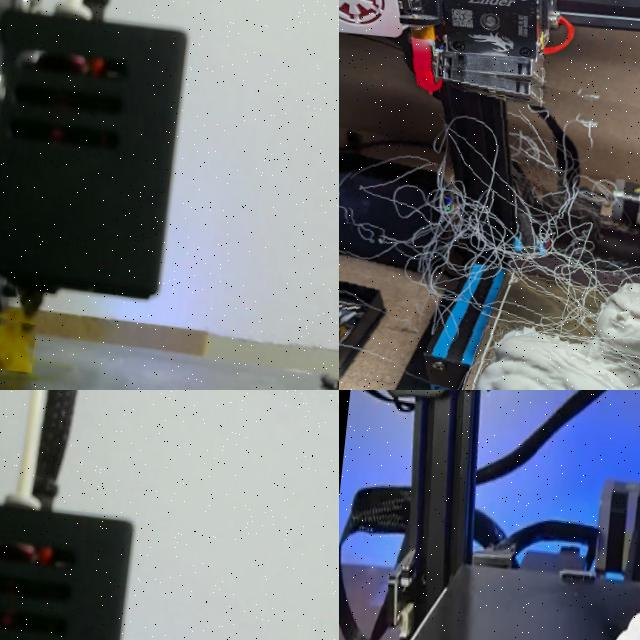spaghetti: (339, 45, 640, 390), (0, 318, 33, 372)
